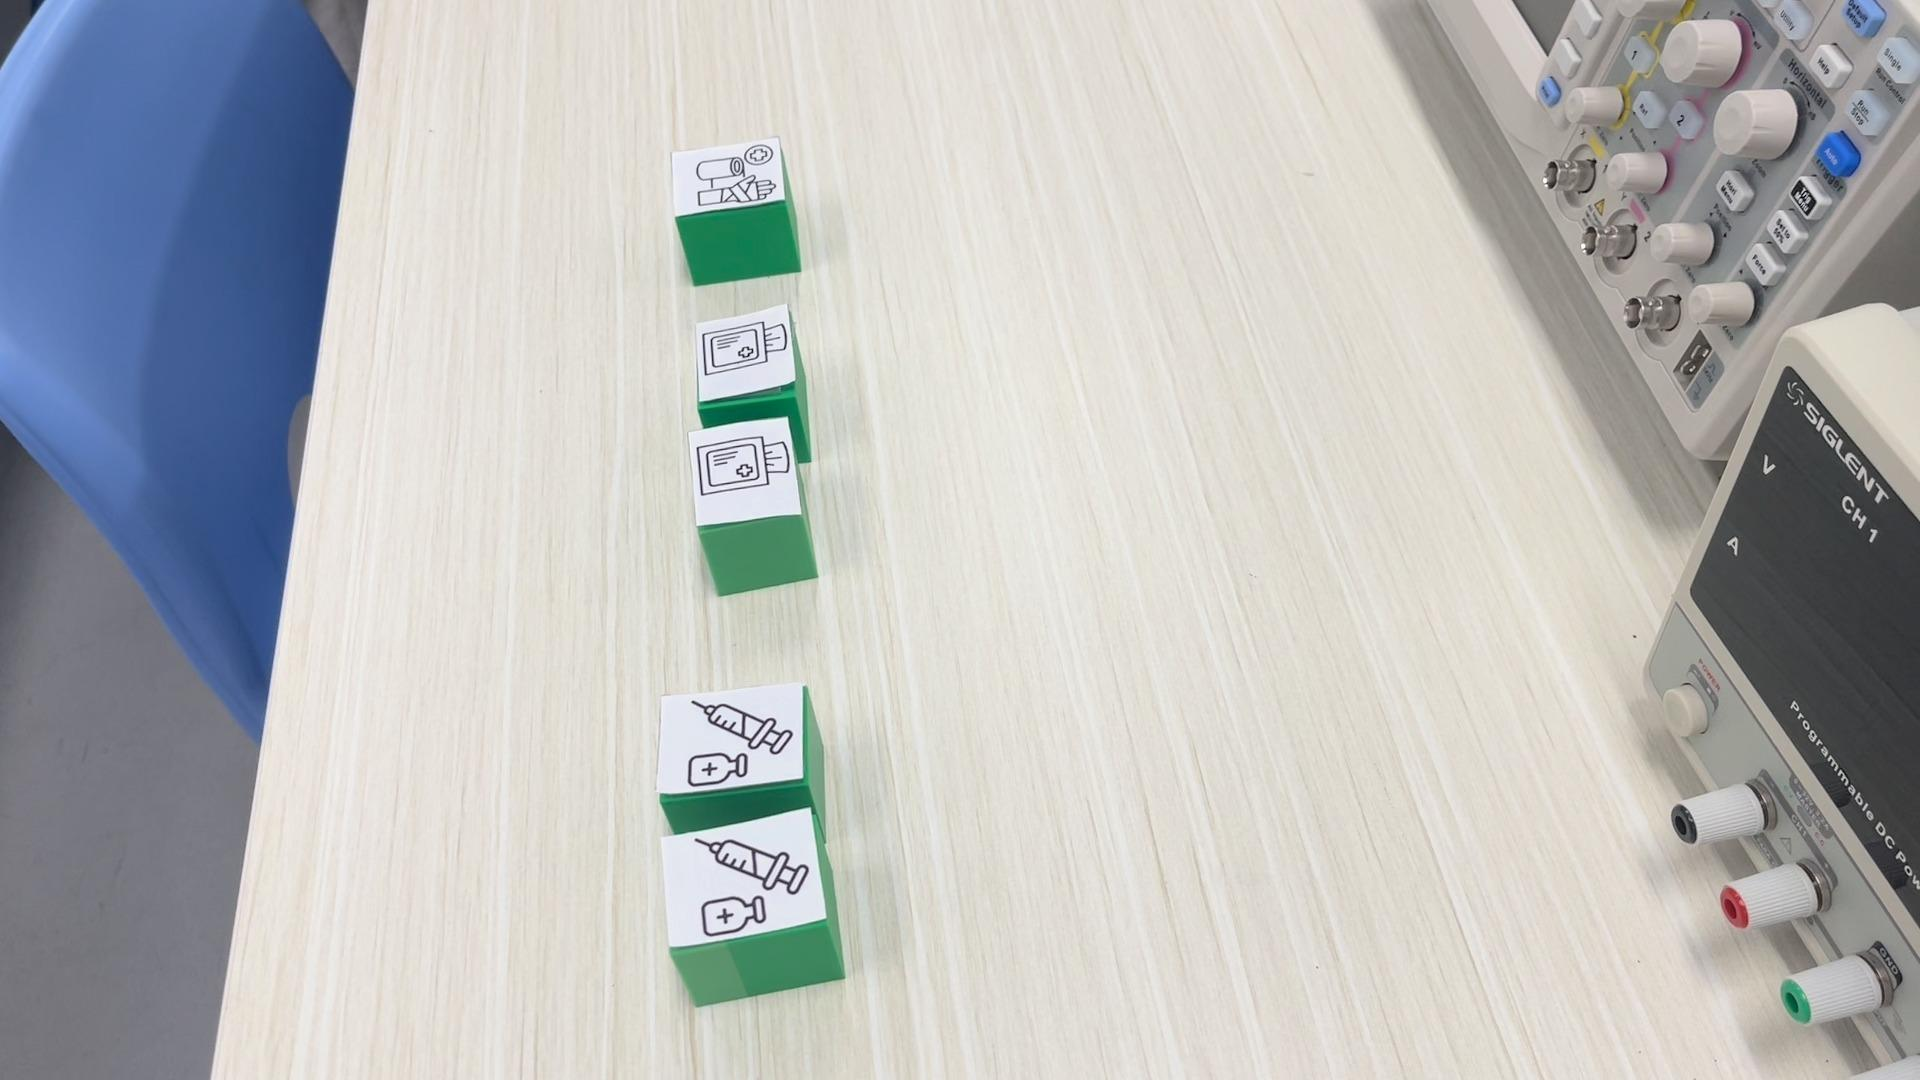Bandages: (669, 135, 800, 286)
Gauze: (687, 418, 822, 600), (699, 302, 803, 419)
antiseptic cream: (659, 804, 847, 1009), (651, 680, 820, 833)
